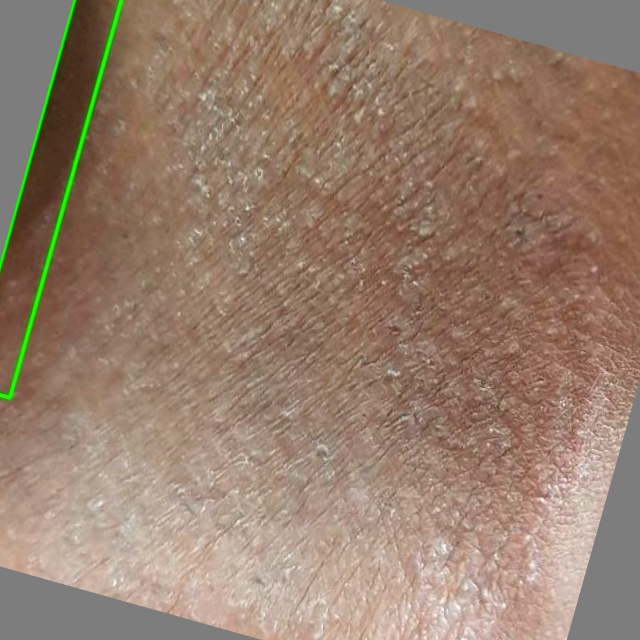Tinea Corporis: (0, 0, 121, 397)
